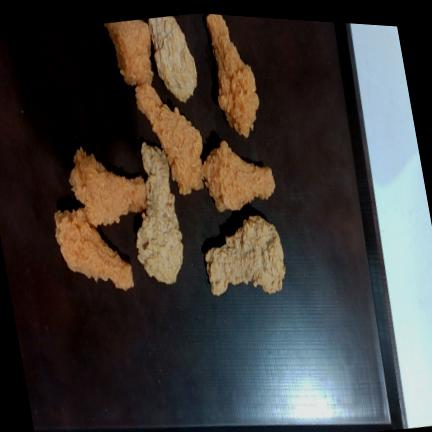chicken: (136, 83, 204, 194), (55, 208, 134, 290), (137, 143, 183, 283), (207, 14, 259, 137), (206, 216, 286, 295), (70, 147, 147, 226), (202, 141, 275, 212), (148, 16, 197, 102), (104, 19, 153, 85)
